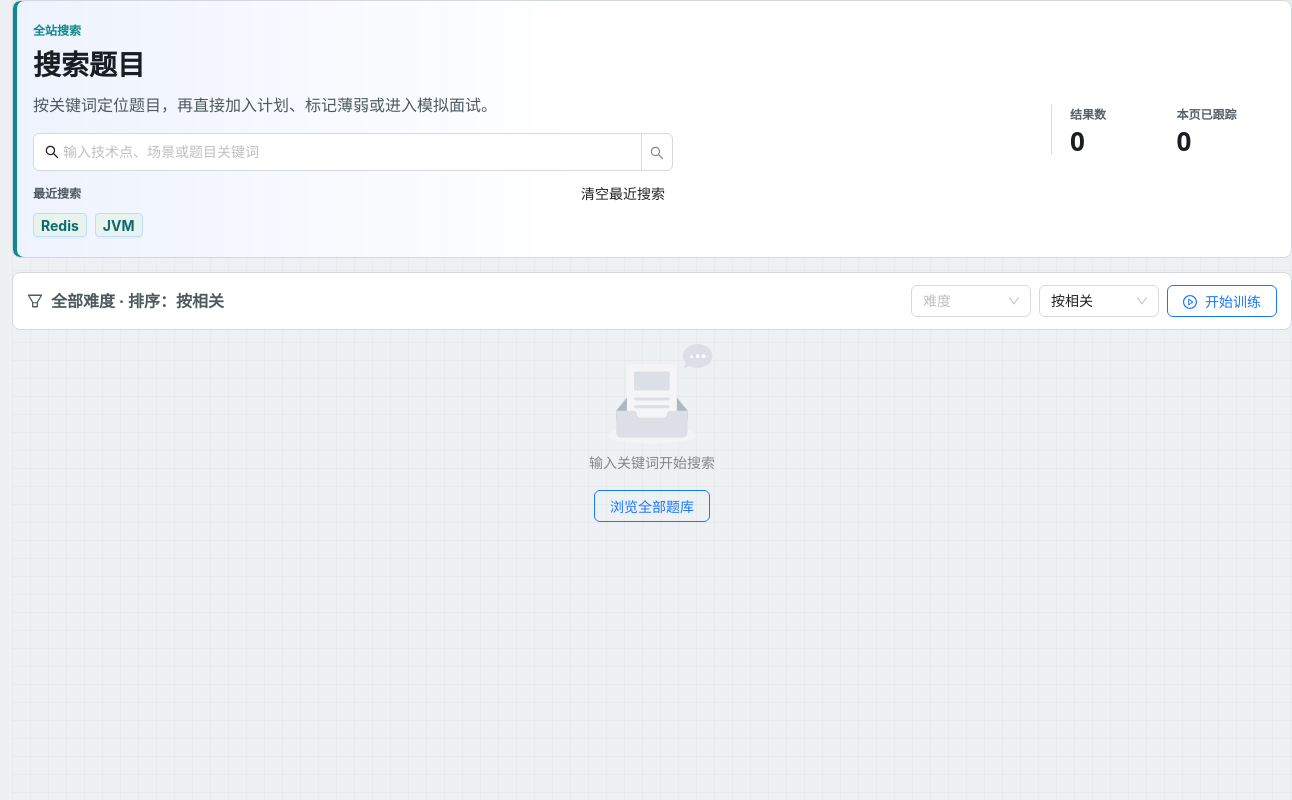
SearchResult › re-runs a recent search from the empty search page and clears recent searches
The image size is (1292, 800).
Click the button "Redis" at (60, 225), box [33,213,87,237]
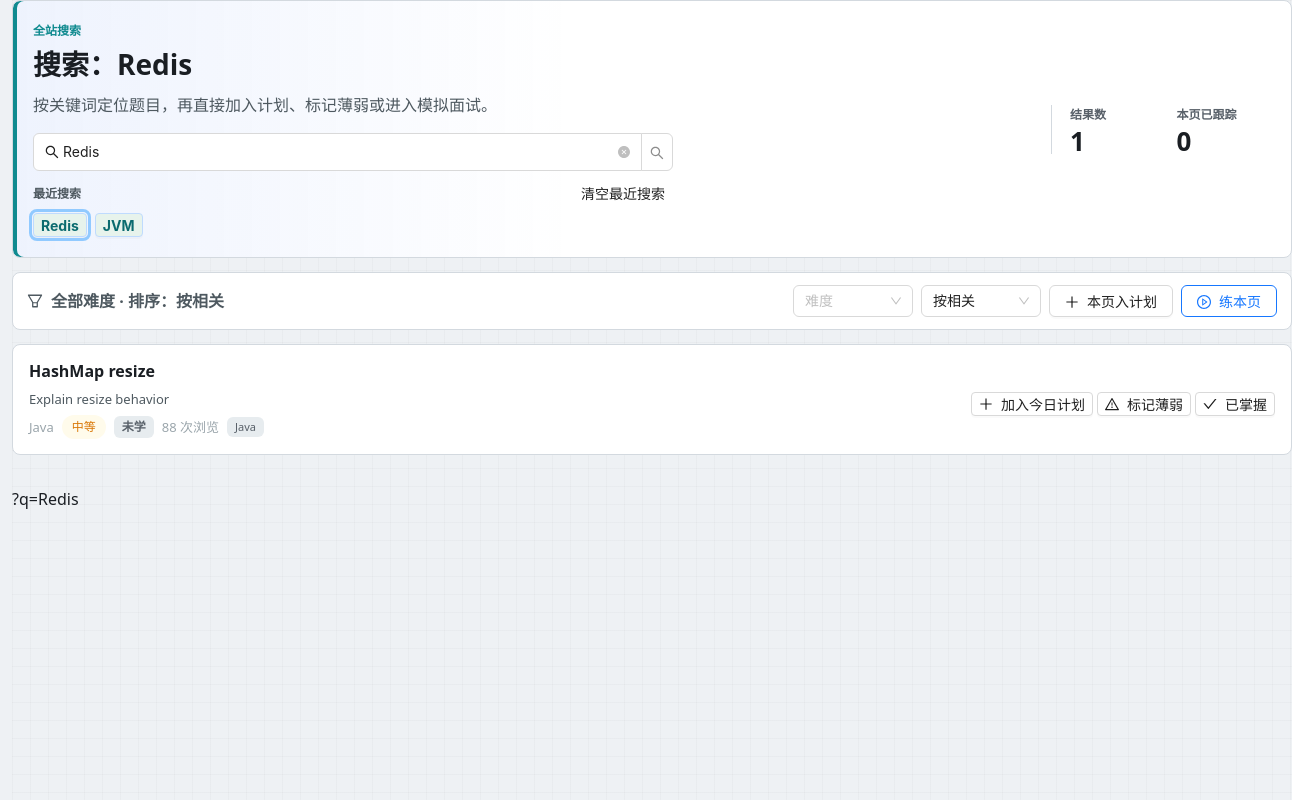
Expected: the text "Redis" is shown, [41,217,79,234]
Click the button "清空最近搜索" at (623, 193), box [573,181,673,205]
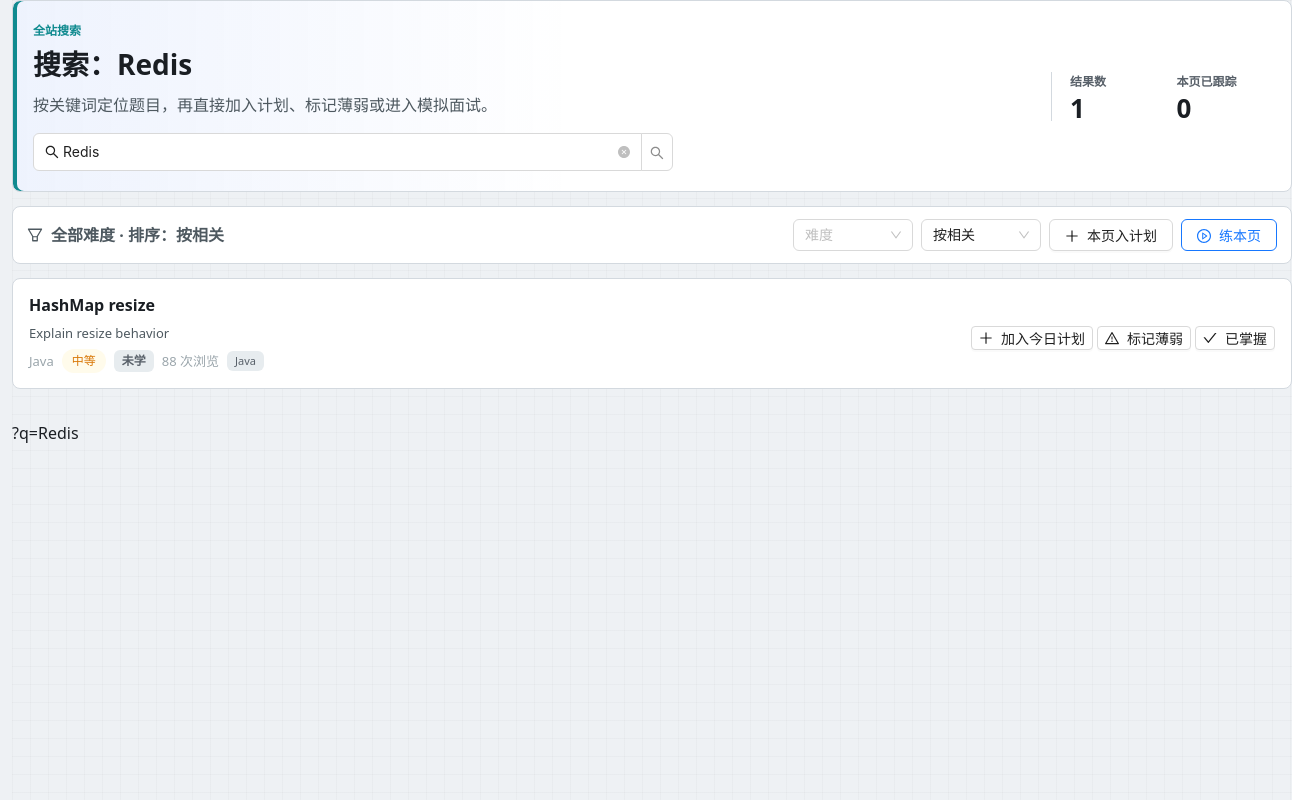
Now the text labelled "最近搜索" is gone
